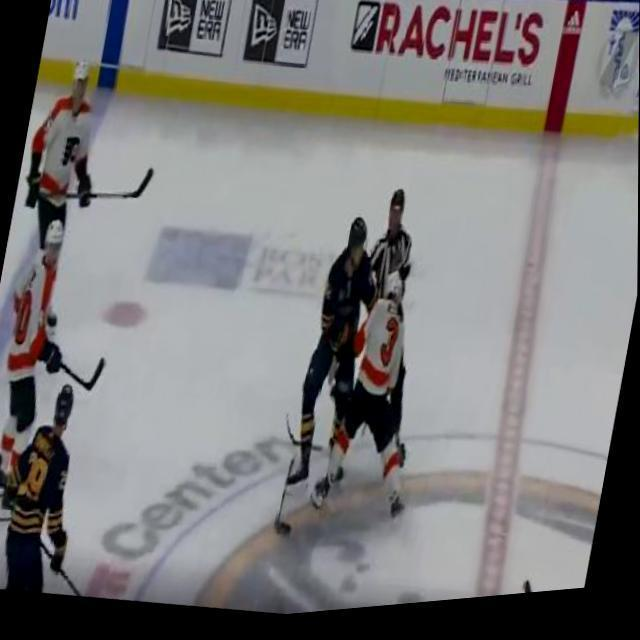fight: (280, 174, 453, 520)
